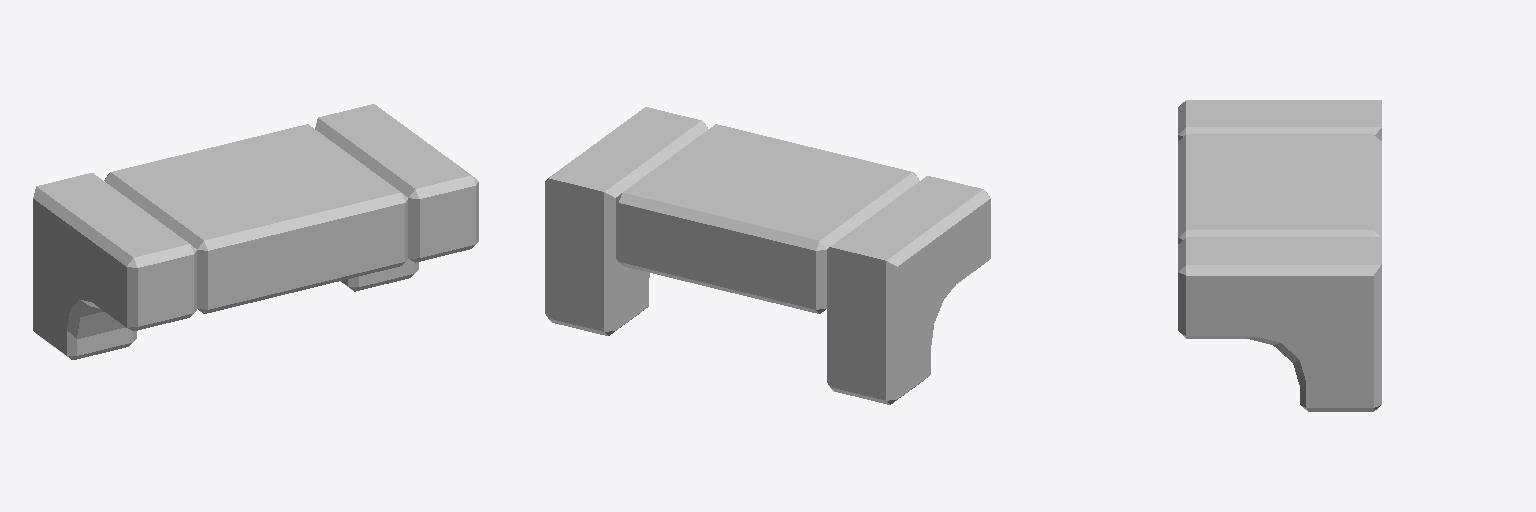
File: shelf_A_small.obj
3 renders of one model, left to right at view 1: azimuth 30°, elevation 25°; view 2: azimuth 150°, elevation 25°; view 3: azimuth 270°, elevation 25°, orthographic.
Parts seen in each view (by area): view 1: shelf_A_small_Cube.026; view 2: shelf_A_small_Cube.026; view 3: shelf_A_small_Cube.026.
Boxes of the visible parts, x1=… form: shelf_A_small_Cube.026: x1=33, y1=104, x2=478, y2=359; shelf_A_small_Cube.026: x1=545, y1=107, x2=990, y2=404; shelf_A_small_Cube.026: x1=1178, y1=100, x2=1381, y2=411.
Size of the model in its own units: 1 by 0.4 by 0.5.